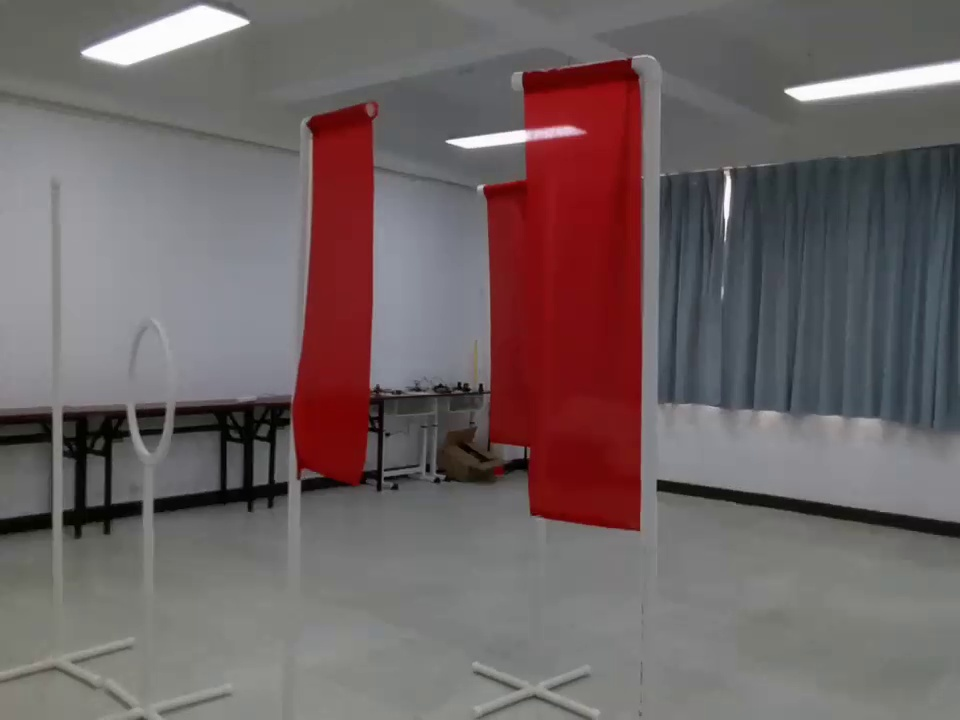gan: (47, 175, 69, 648)
qi: (523, 63, 659, 538), (273, 108, 379, 490)
